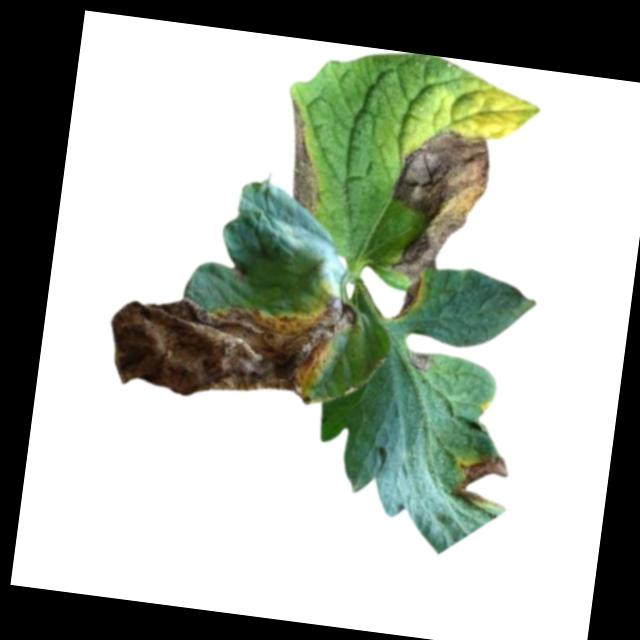Early_blight: (103, 266, 358, 415), (390, 126, 495, 285), (277, 100, 328, 217), (446, 450, 513, 511), (393, 277, 424, 323), (403, 349, 431, 370), (230, 262, 247, 282)
